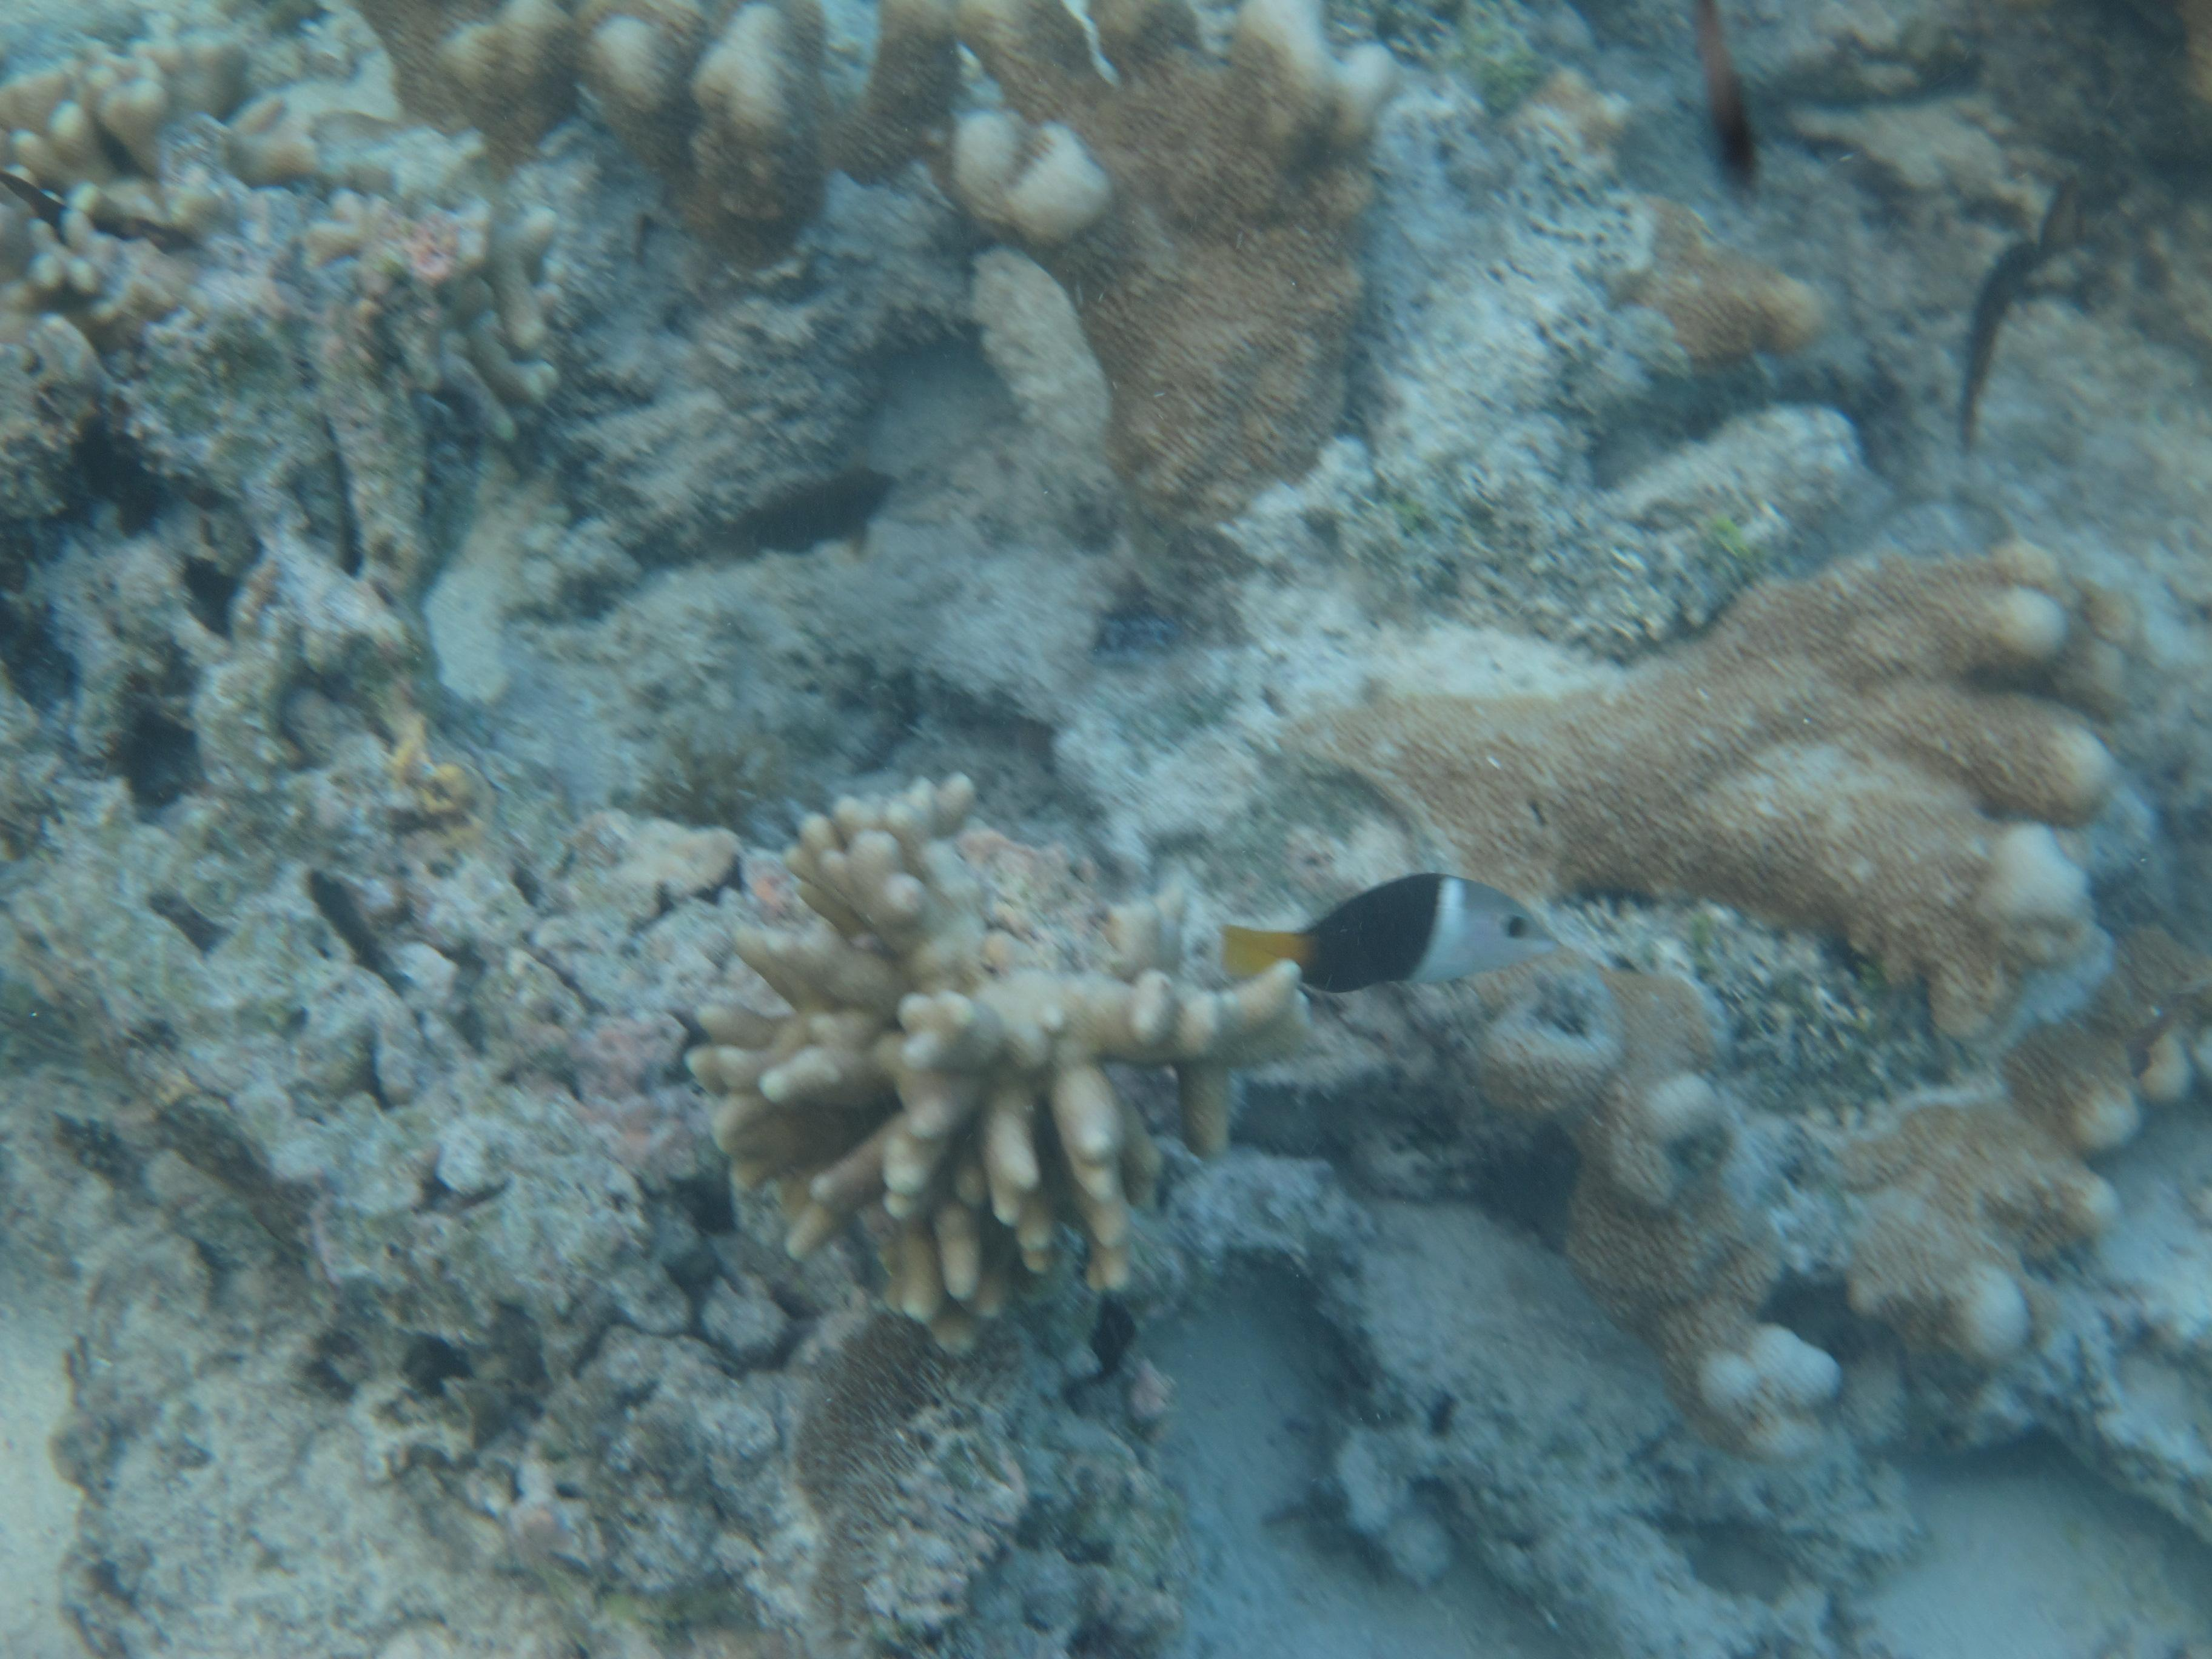Fish: (1204, 866, 1568, 1019)
